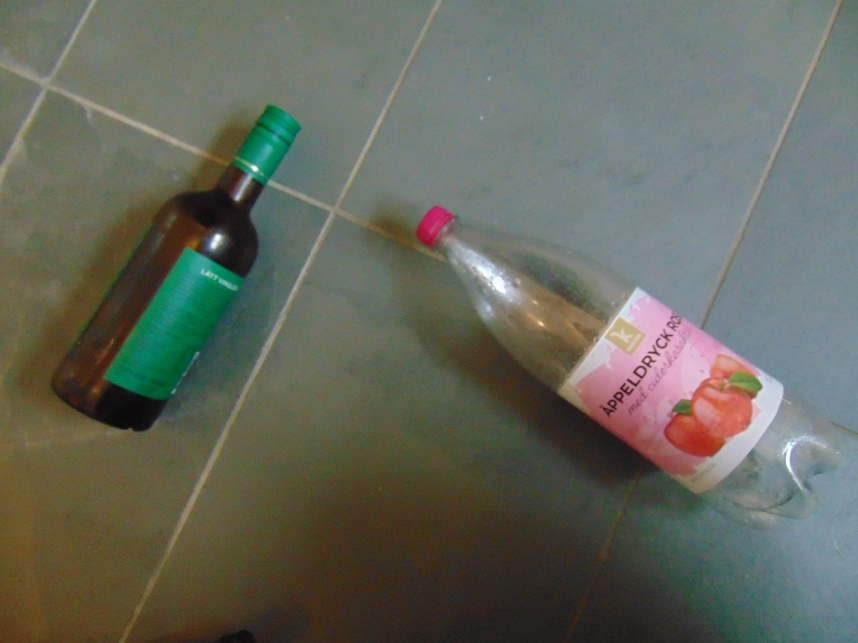glass_bottle: (49, 103, 303, 432)
plastic_bottle: (416, 205, 846, 535)
